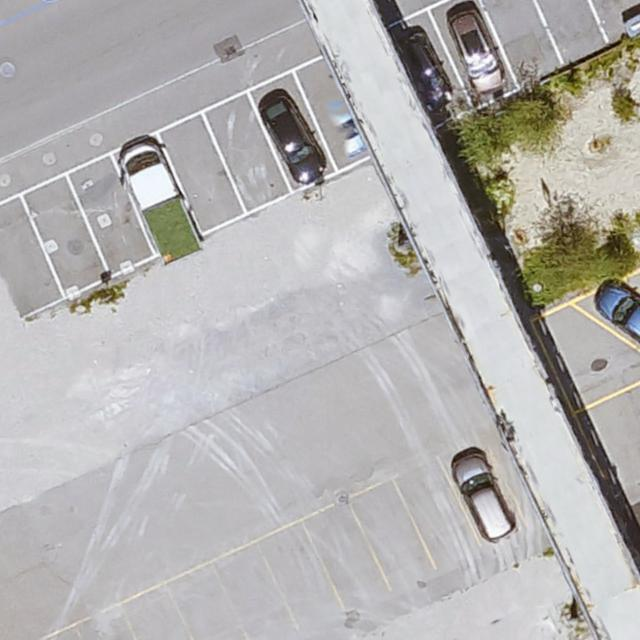tree: (501, 92, 556, 145)
